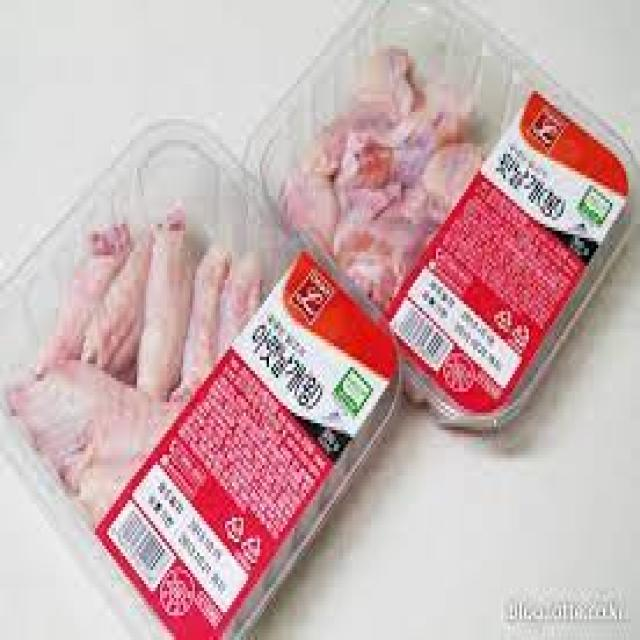chicken: (16, 168, 358, 611), (285, 14, 640, 333)
